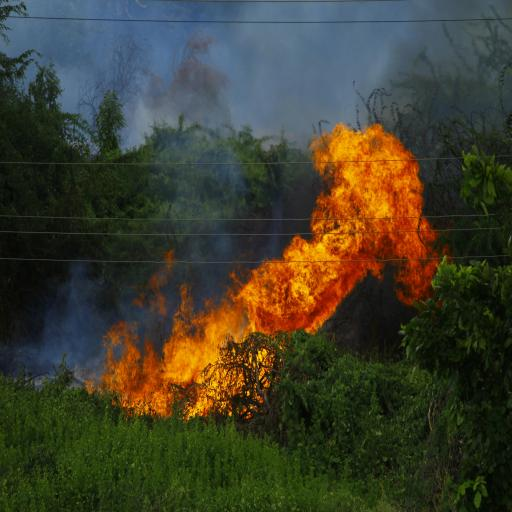fire: (36, 48, 454, 457)
